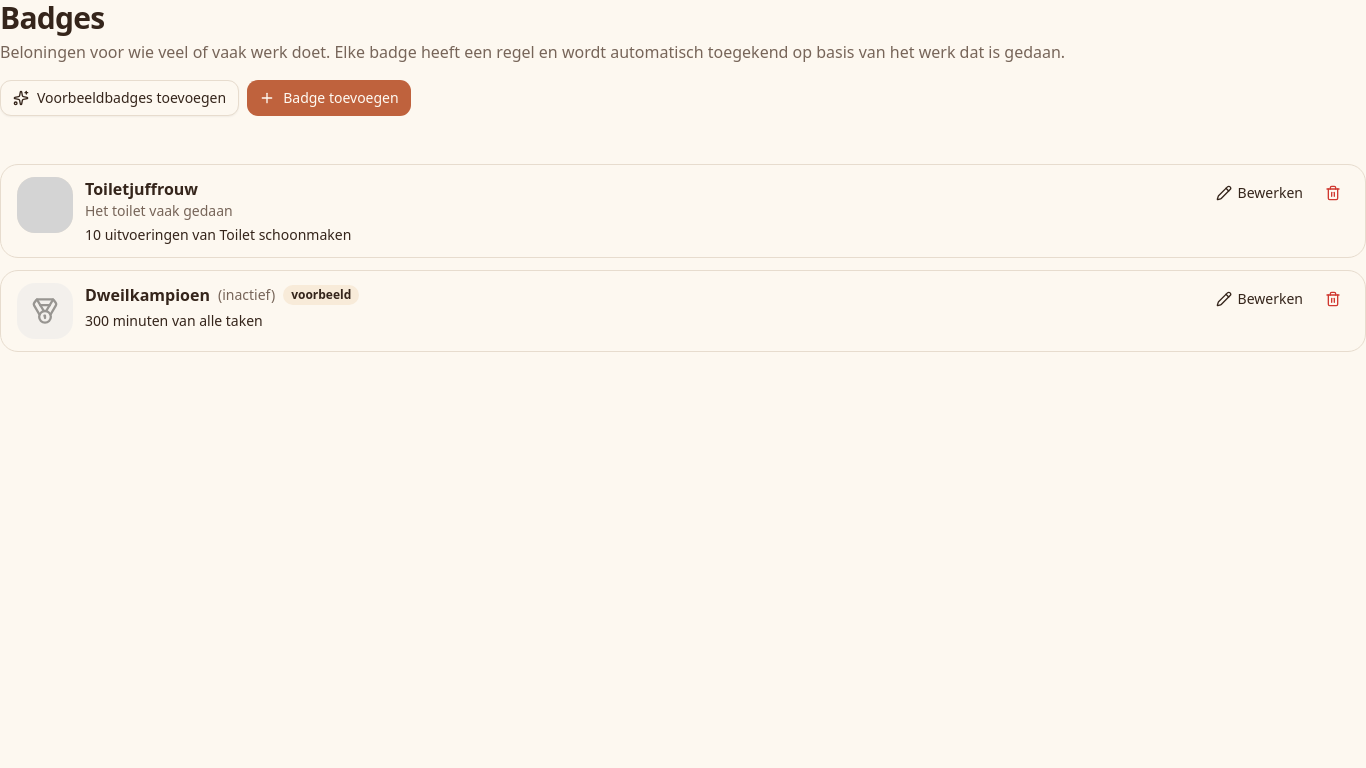
Scenario: BadgesPage › deletes a badge only after a confirmation
This screenshot has width=1366, height=768.
Step 1. Click the button named "Verwijder Dweilkampioen" → [1333, 299], box [1317, 283, 1349, 315]
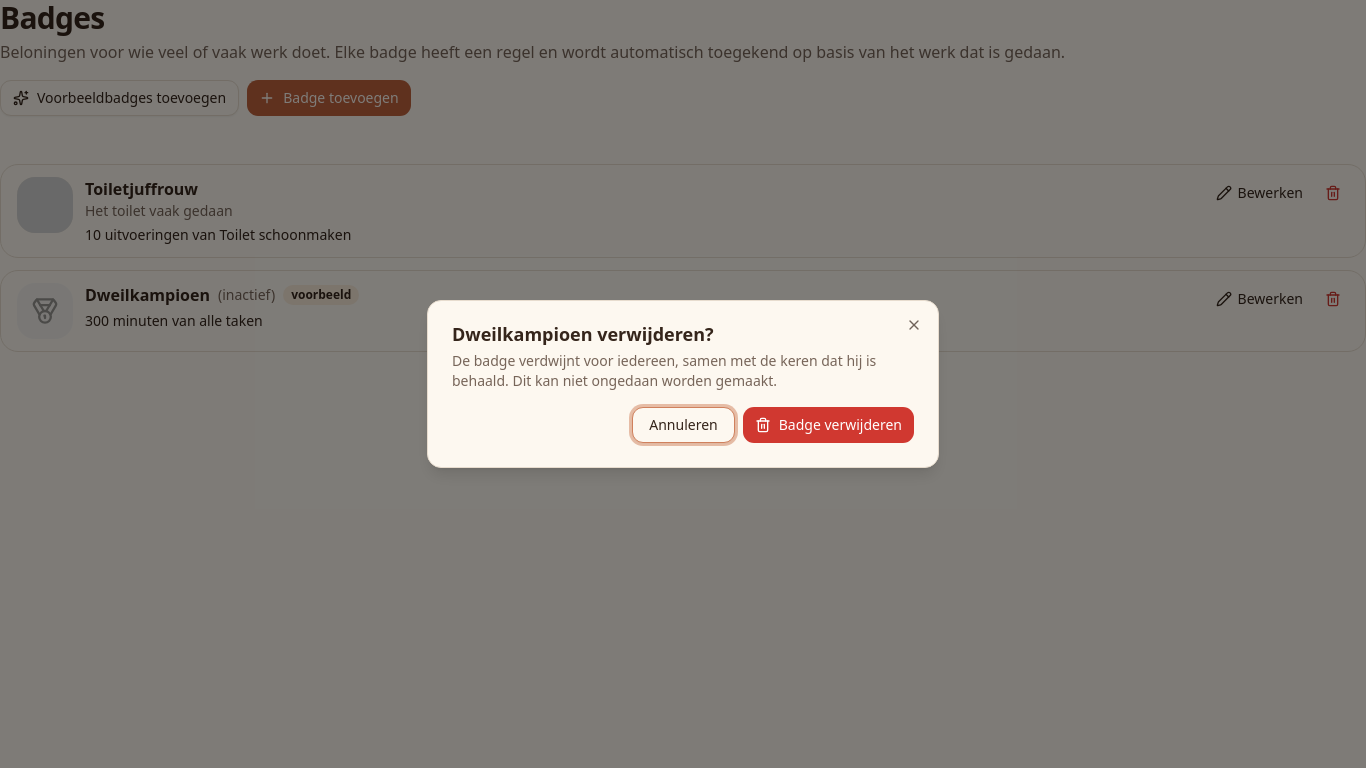
Check: the dialog shows "Dweilkampioen verwijderen?", box [452, 322, 714, 346]
Step 2. Click the button "Badge verwijderen" → [828, 425], box [743, 407, 914, 443]
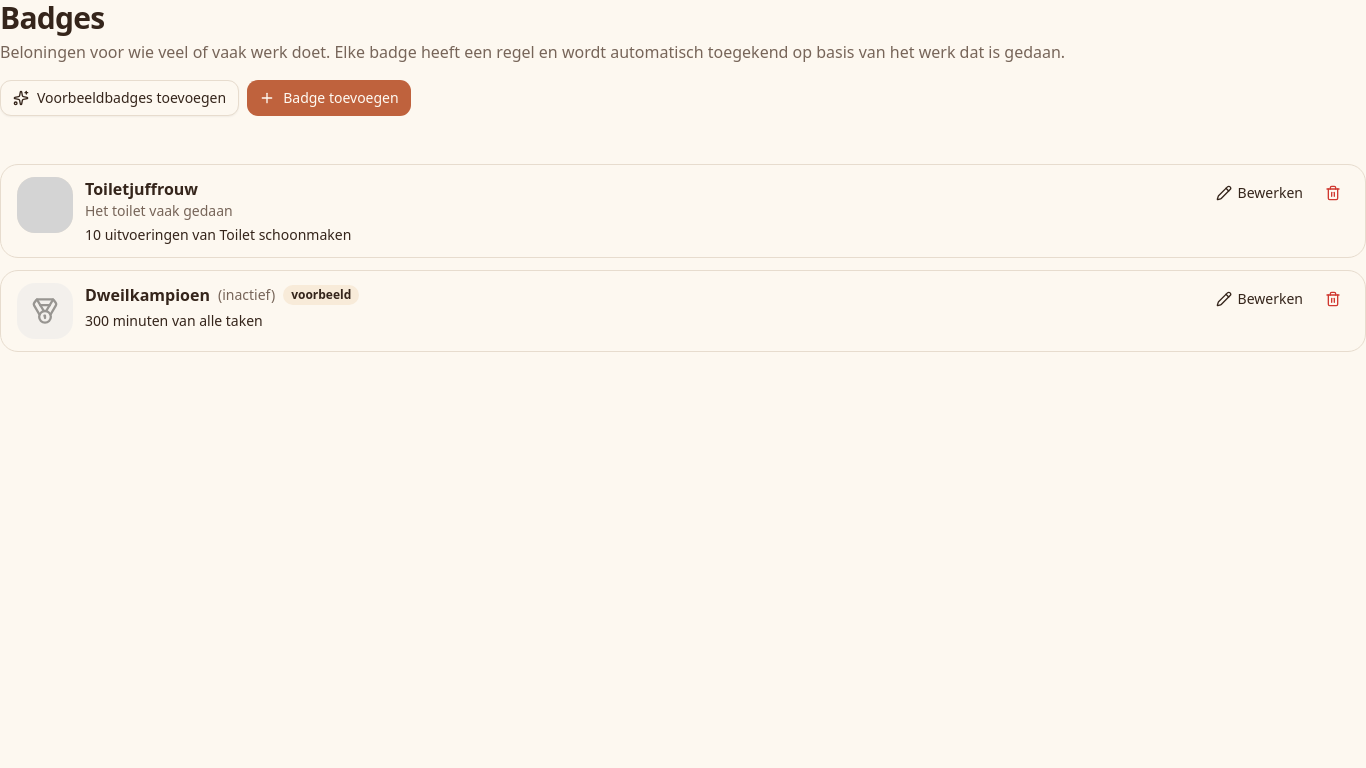
Check: the dialog is gone
